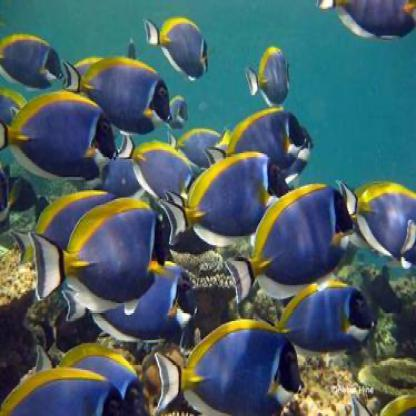surgeon: (225, 179, 365, 304), (34, 197, 168, 313), (148, 323, 311, 414), (161, 151, 289, 243), (1, 87, 120, 179), (56, 53, 174, 132), (258, 277, 379, 352), (144, 7, 222, 83)
